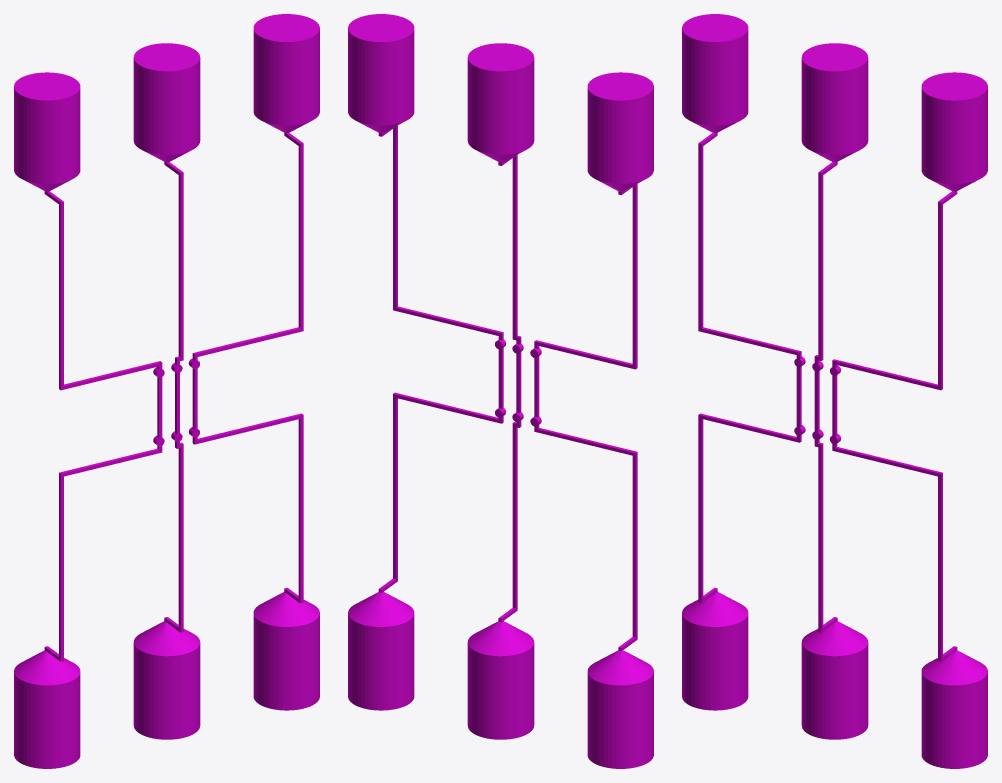
File: void_control.glb
3 renders of one model, left to right at view 1: azimuth 30°, elevation 25°; view 2: azimuth 150°, elevation 25°; view 3: azimuth 330°, elevation 25°, orthographic.
Parts seen in each view (by area): view 1: world; view 2: world; view 3: world.
Part boxes in pixels (x1,y1,x2,y2): world: (14, 14, 319, 768); world: (348, 14, 653, 768); world: (682, 14, 987, 768).
Bounding box in the file's own units: 5.65 × 12.16 × 1.1.
